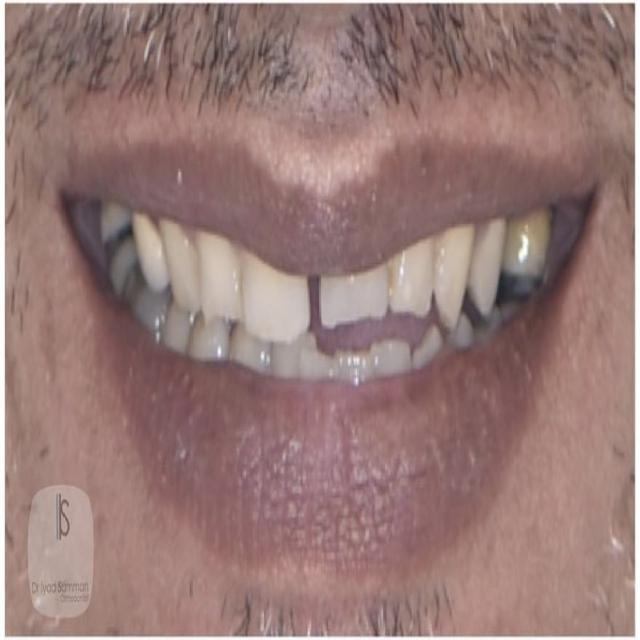tooth: (236, 252, 311, 343), (157, 220, 201, 307), (195, 230, 238, 318), (388, 240, 435, 318), (436, 231, 469, 318), (174, 308, 220, 360), (130, 222, 162, 288), (372, 331, 409, 386), (233, 312, 261, 378), (326, 287, 376, 323), (332, 344, 368, 389), (270, 328, 297, 379), (478, 240, 496, 302), (302, 339, 328, 378)
